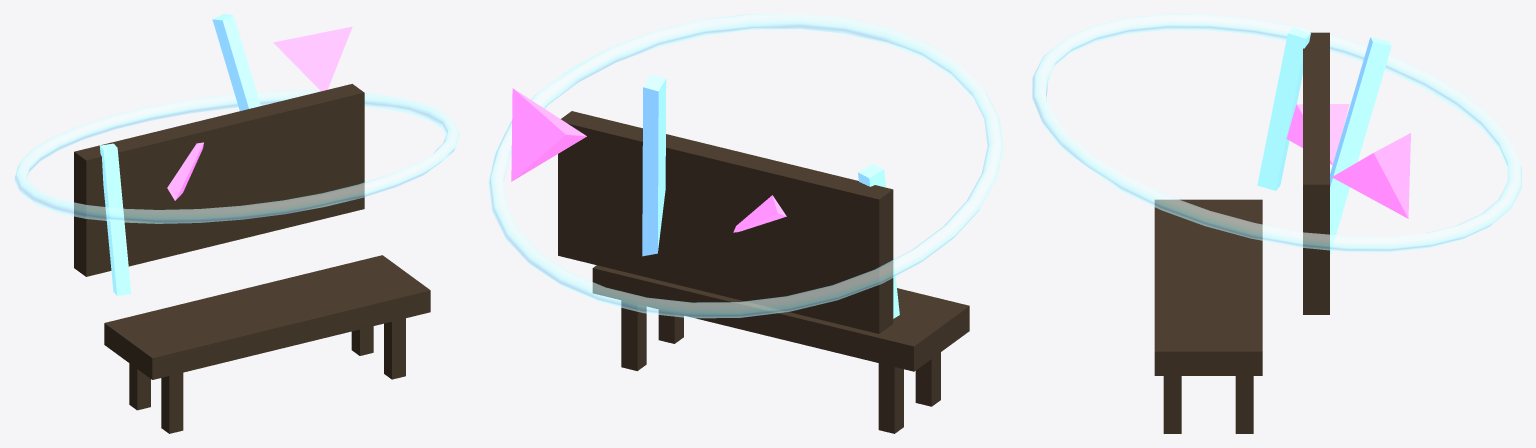
File: bench-growth.medium.glb
The picture shows the model from 3 angles, left to right: view 1: azimuth 30°, elevation 25°; view 2: azimuth 150°, elevation 25°; view 3: azimuth 270°, elevation 25°; orthographic projection. The views are drawn at different scales.
Parts seen in each view (by area): view 1: bench-growth-body, growth-halo, growth-0, growth-1; view 2: bench-growth-body, growth-halo, growth-0, growth-1; view 3: bench-growth-body, growth-halo, growth-0, growth-1.
Boxes of the visible parts, x1,y1,x2,y2 form: bench-growth-body: (74, 84, 430, 433); growth-halo: (14, 90, 459, 223); growth-0: (99, 14, 260, 295); growth-1: (167, 26, 352, 200); bench-growth-body: (558, 111, 969, 433); growth-halo: (488, 14, 1003, 318); growth-0: (642, 74, 899, 318); growth-1: (511, 88, 786, 232); bench-growth-body: (1154, 32, 1329, 433); growth-halo: (1032, 14, 1521, 252); growth-0: (1257, 27, 1391, 254); growth-1: (1286, 104, 1410, 218).
Bounding box in the file's own units: 2.78 × 2.14 × 2.72.
